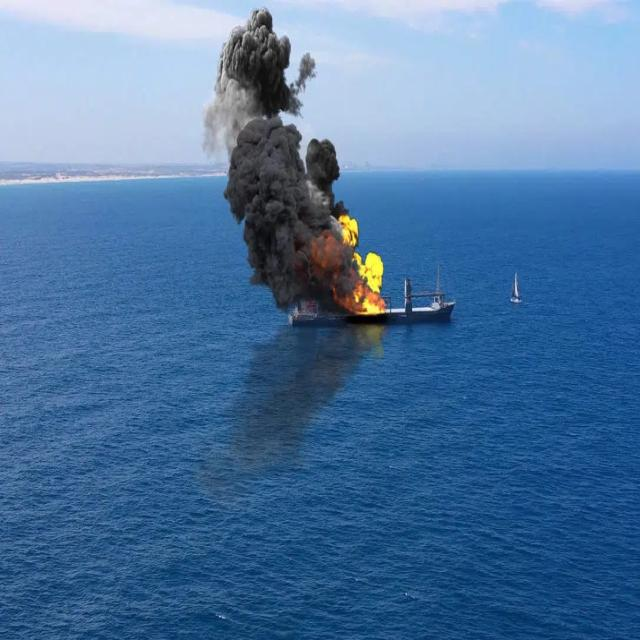navalvessels: (274, 250, 463, 326)
sailboat: (500, 261, 524, 311)
